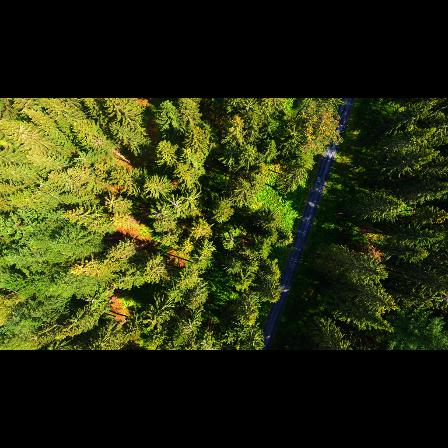Sick: (164, 193, 188, 213)
